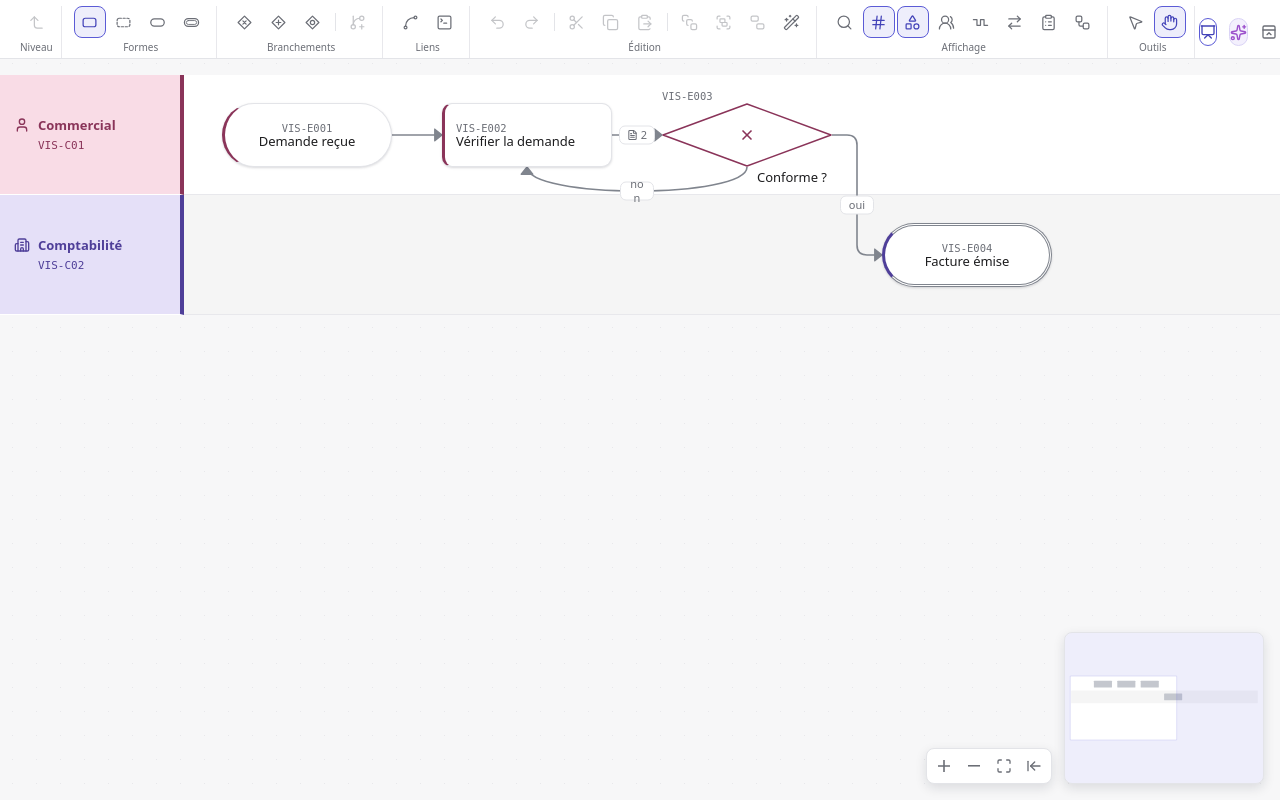
Test case: the online voices for a project whose classification does not let its texts leave the computer (F-137) › are left out of the voice read and of its settings, the box of the online voices off and saying why, even when the browser kept them allowed and chosen
Press F5
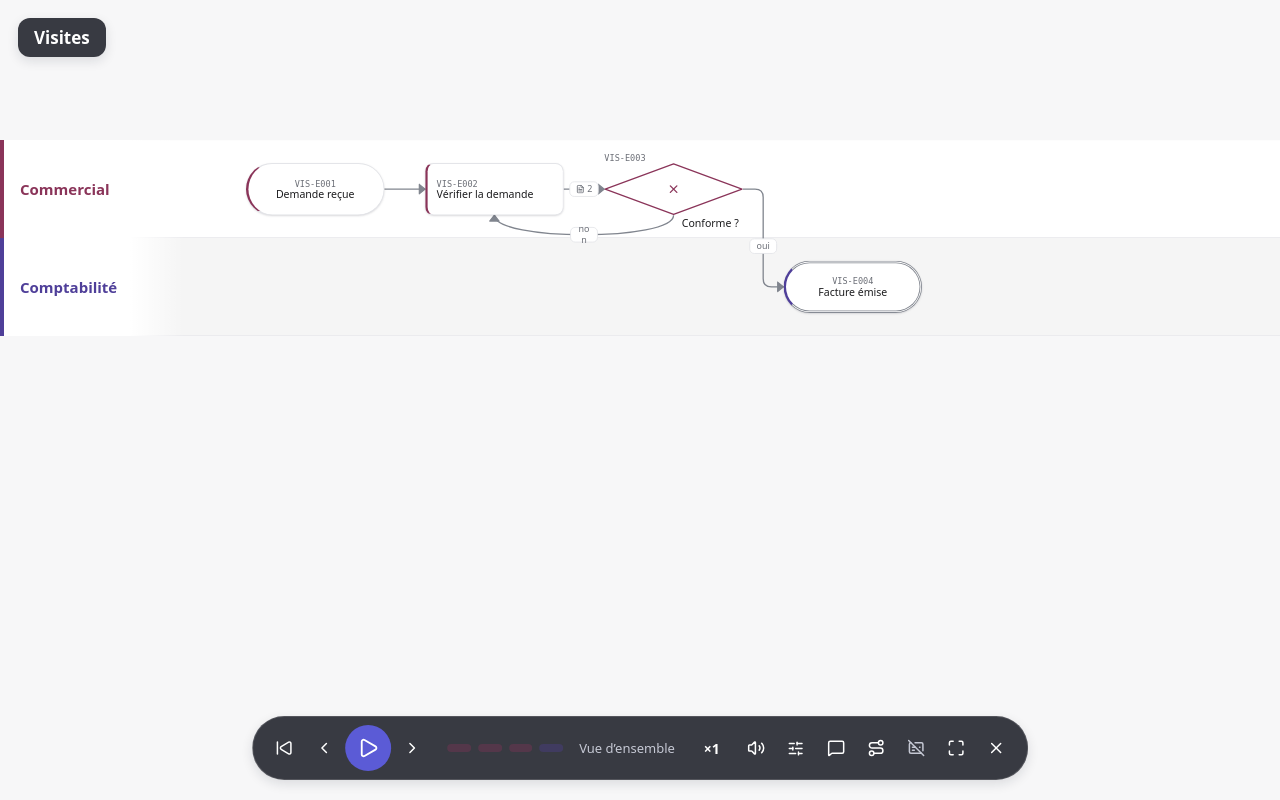
Press Space
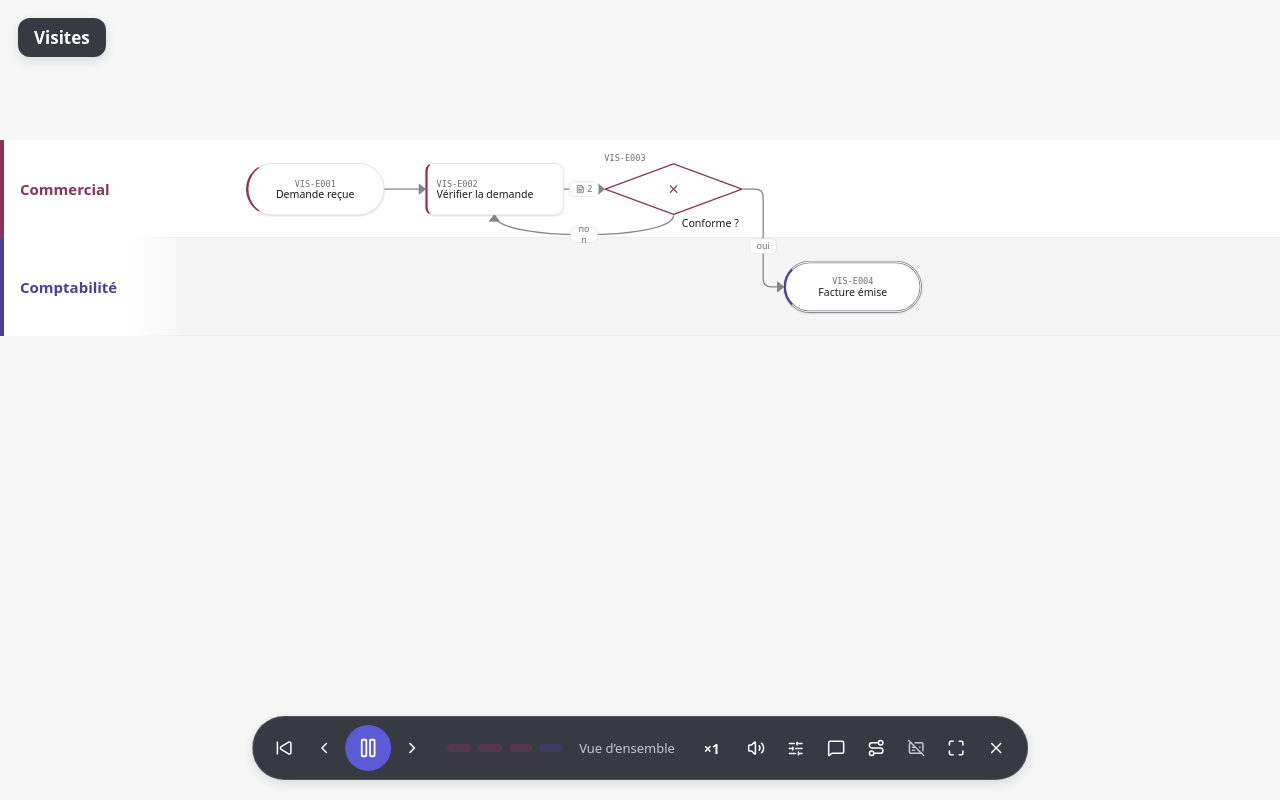
Click the 2nd button with test id "presenter-voice-settings": (796, 748) x1=777 y1=729 x2=815 y2=767
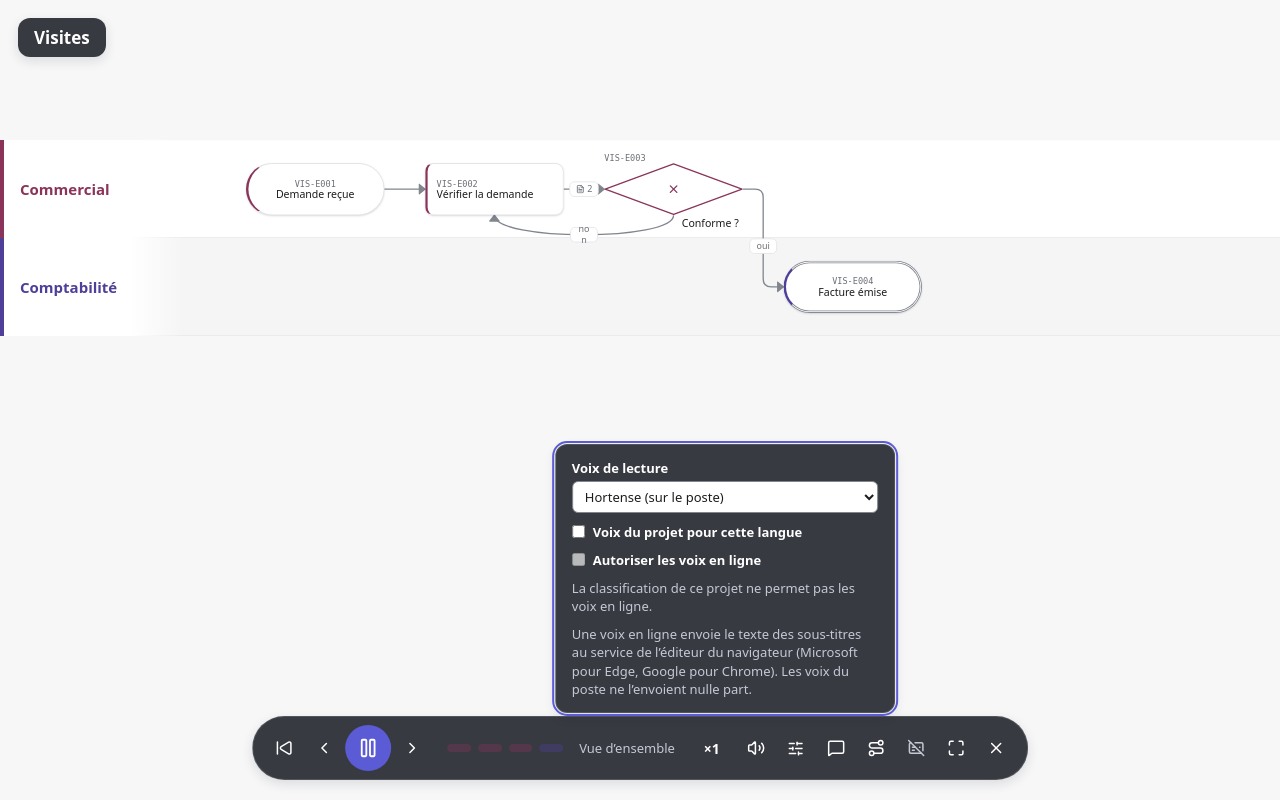
expect the text with test id "presenter-voice-online-refused" reads "La classification de ce projet ne permet pas les voix en ligne.": met, box x1=572 y1=579 x2=855 y2=615
